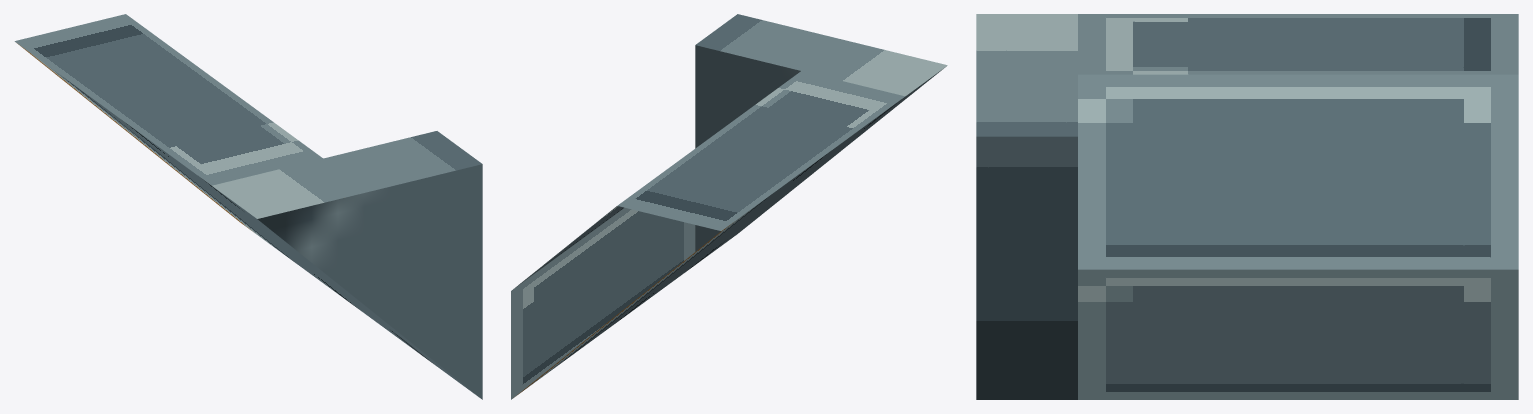
Rendered from casing_d5_rear_x-2_y-2.obj.
The picture shows the model from 3 angles, left to right: view 1: azimuth 30°, elevation 25°; view 2: azimuth 150°, elevation 25°; view 3: azimuth 270°, elevation 25°; orthographic projection. The views are drawn at different scales.
Parts seen in each view (by area): view 1: d5_rear_x-2_y-2; view 2: d5_rear_x-2_y-2; view 3: d5_rear_x-2_y-2.
Part boxes in pixels (x1,y1,x2,y2): d5_rear_x-2_y-2: [14, 14, 482, 399]; d5_rear_x-2_y-2: [511, 14, 947, 399]; d5_rear_x-2_y-2: [976, 14, 1518, 399].
Bounding box in the file's own units: 0.5355 × 0.5355 × 1.
